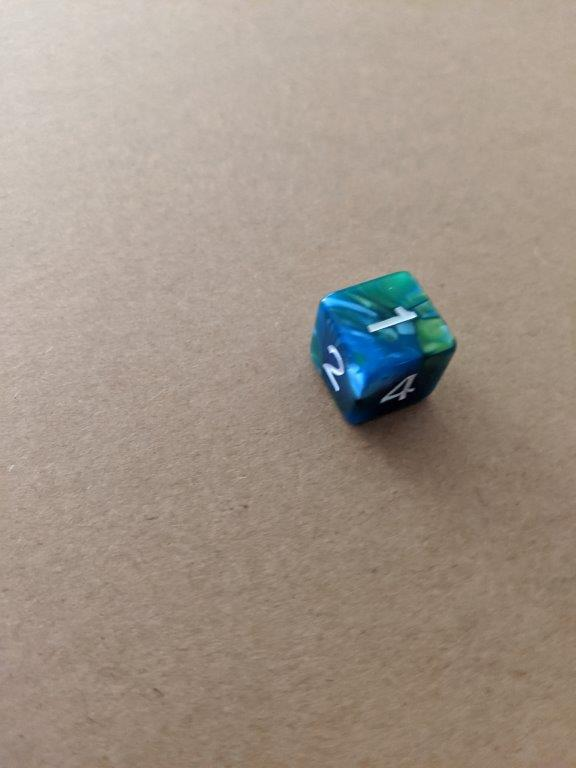d6-1: (306, 269, 458, 424)
